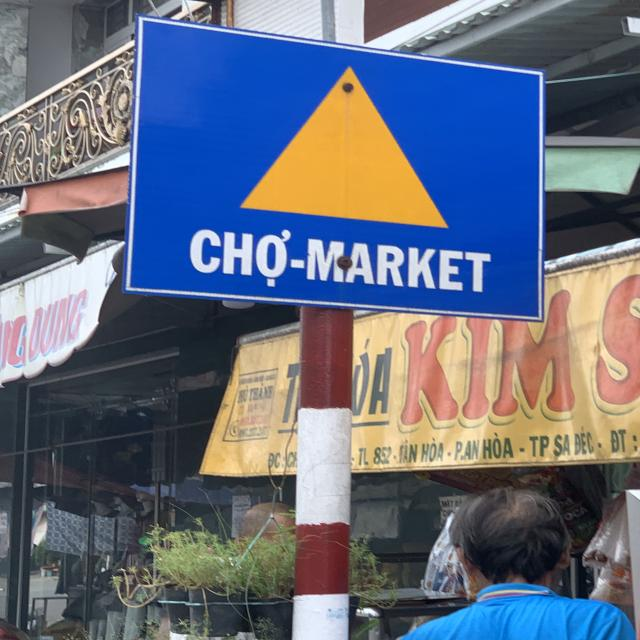Cho_Quay_Xe: (138, 15, 540, 321)
